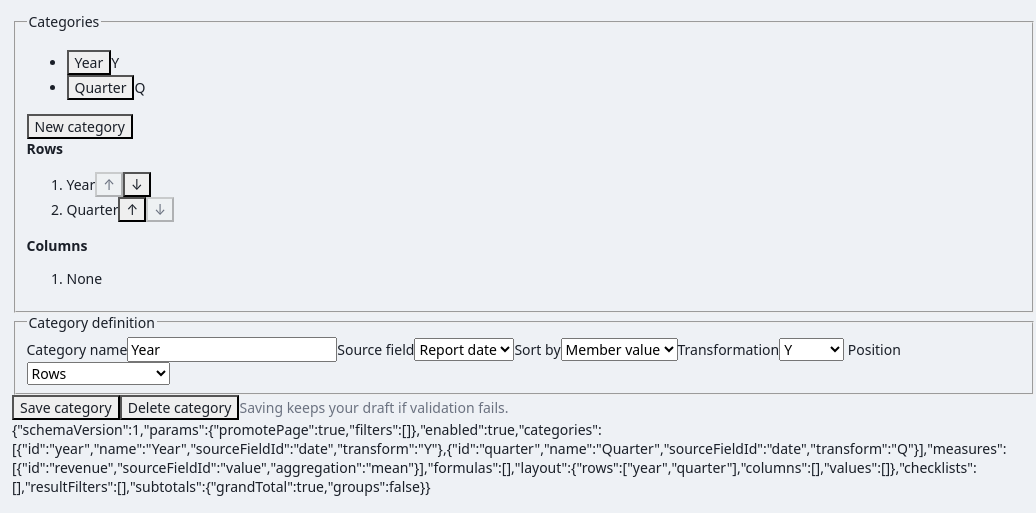
removes only its own axis assignment on a valid delete and creates a fresh draft
This screenshot has width=1036, height=513.
Click the button "Delete category" at (180, 408), box [120, 395, 240, 420]
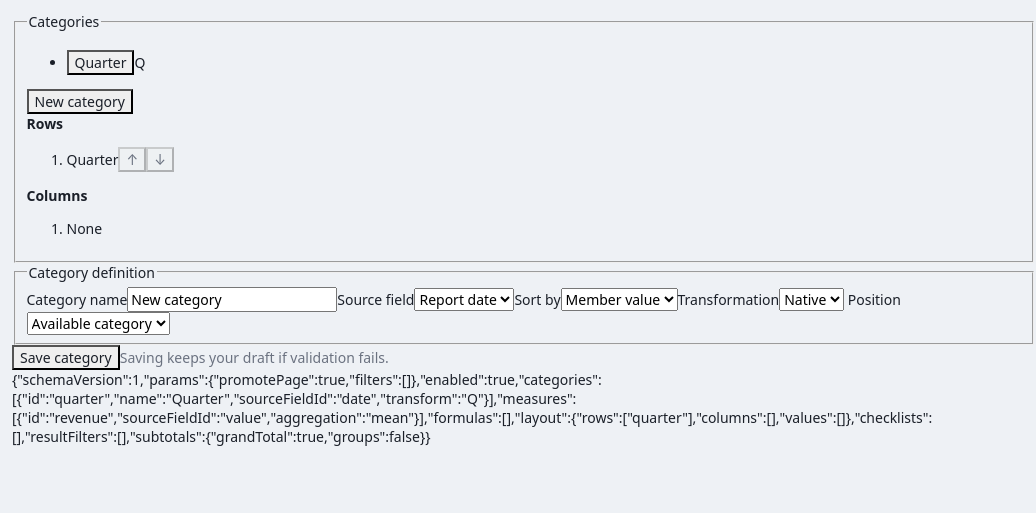
Check: the text named "Saved model" shows "\"rows\":[\"quarter\"]", box [12, 370, 932, 446]
Check: the field labelled "Category name" holds "New category", box [127, 286, 337, 312]
Check: the button "Delete category" is gone
